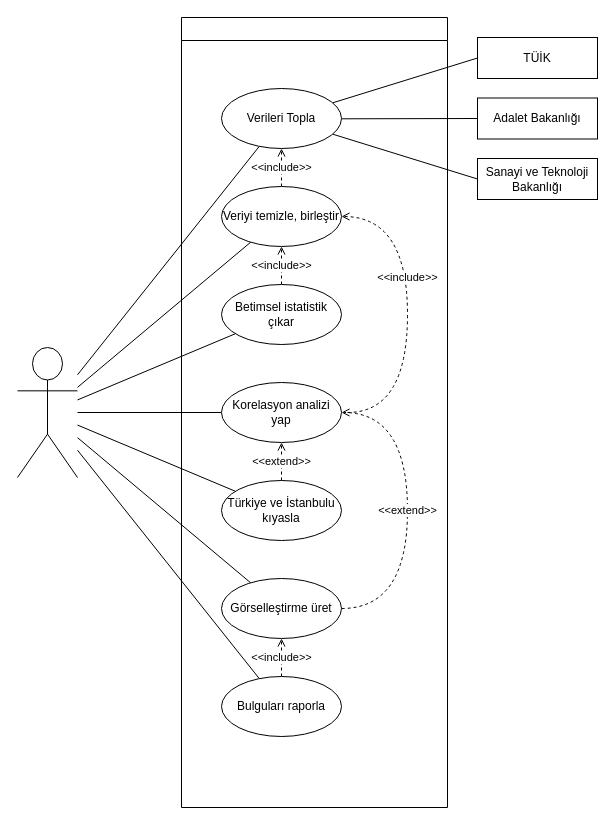
Image size: 615x825. Some labels were removed from this diagram. Here are the shapes that lost their labels. From the top down, the box of each, then its label:
(16, 346, 78, 478): Araştırmacı
(180, 16, 448, 808): Suç ve Sosyoekonomik Analiz Sistemi
